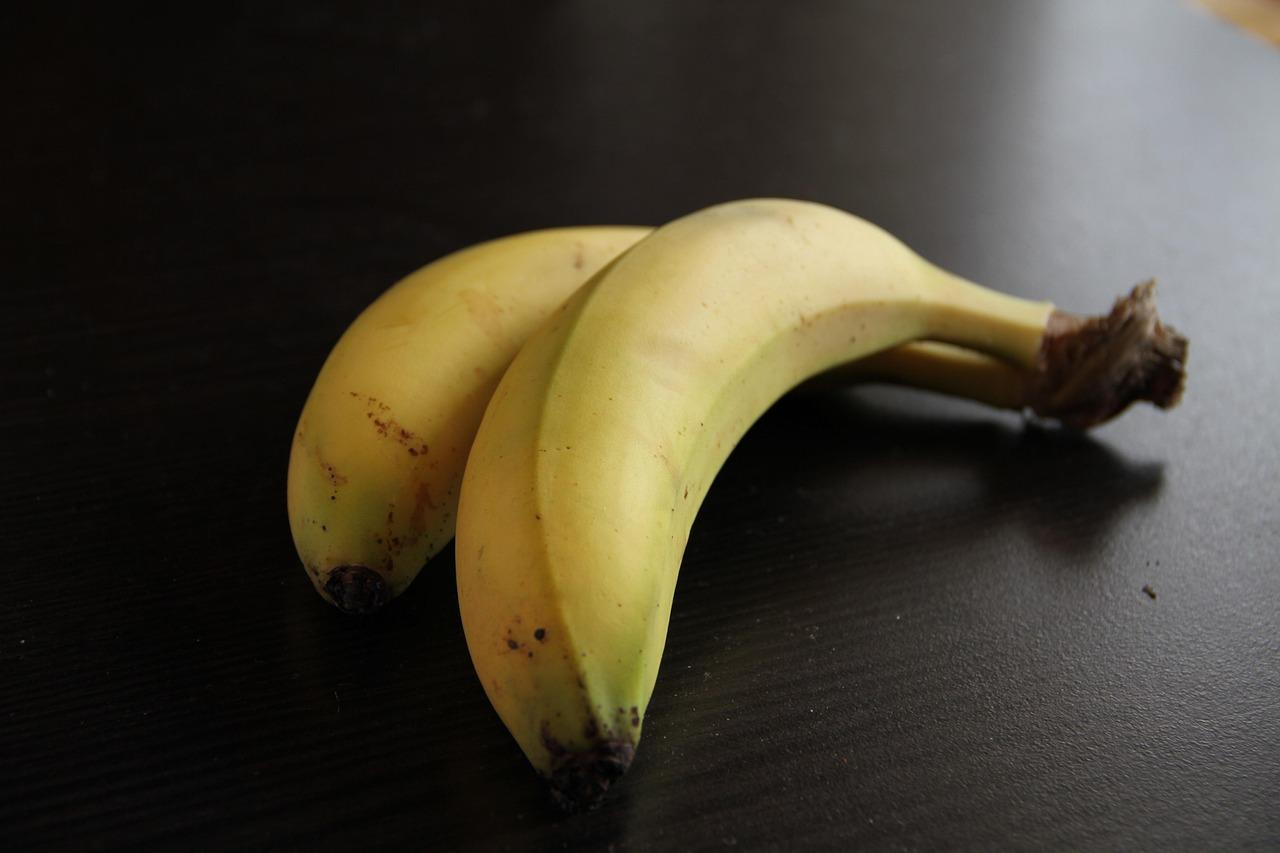banana: (278, 179, 1206, 817)
